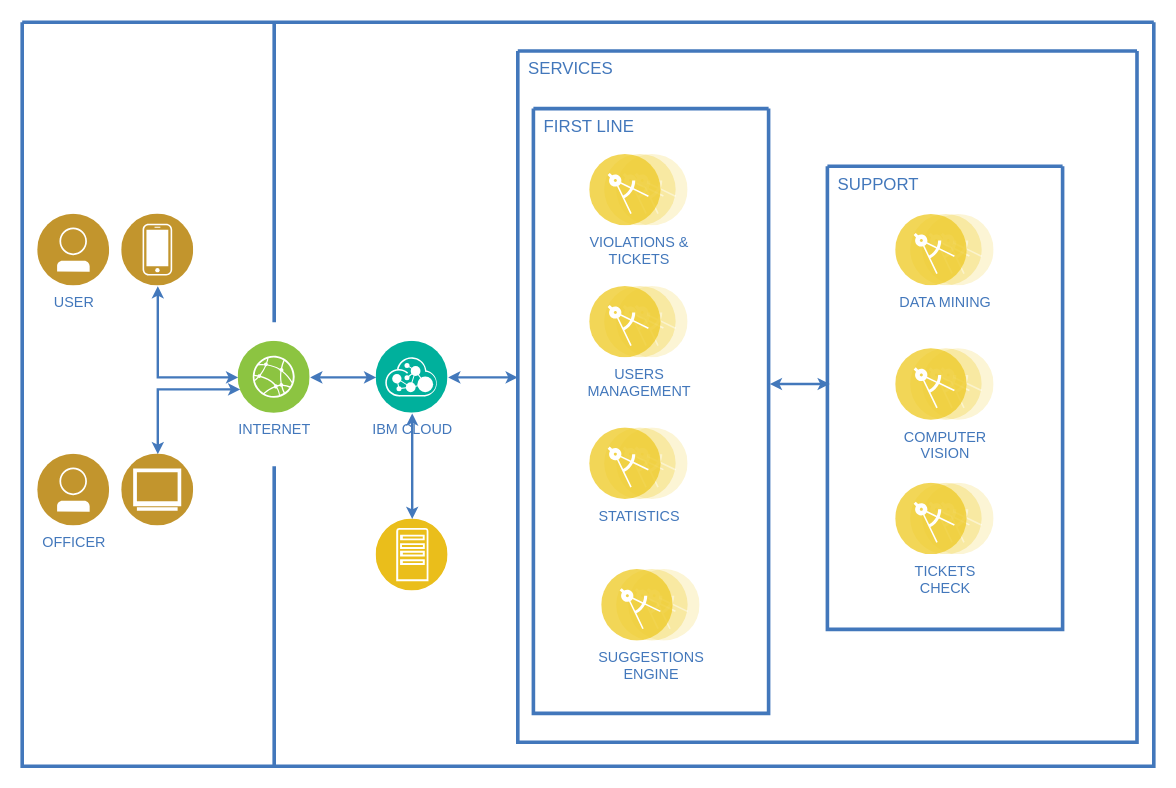
The diagram is 1176 pixels wide and 788 high, and some of its shapes have lost their labels. The shapes that lost their labels are listed below. From the top down, each one's centre as x and y in pixels, then its label:
[157,250]: MOBILE DEVICE
[157,490]: BROWSER
[412,554]: WEB SERVER
